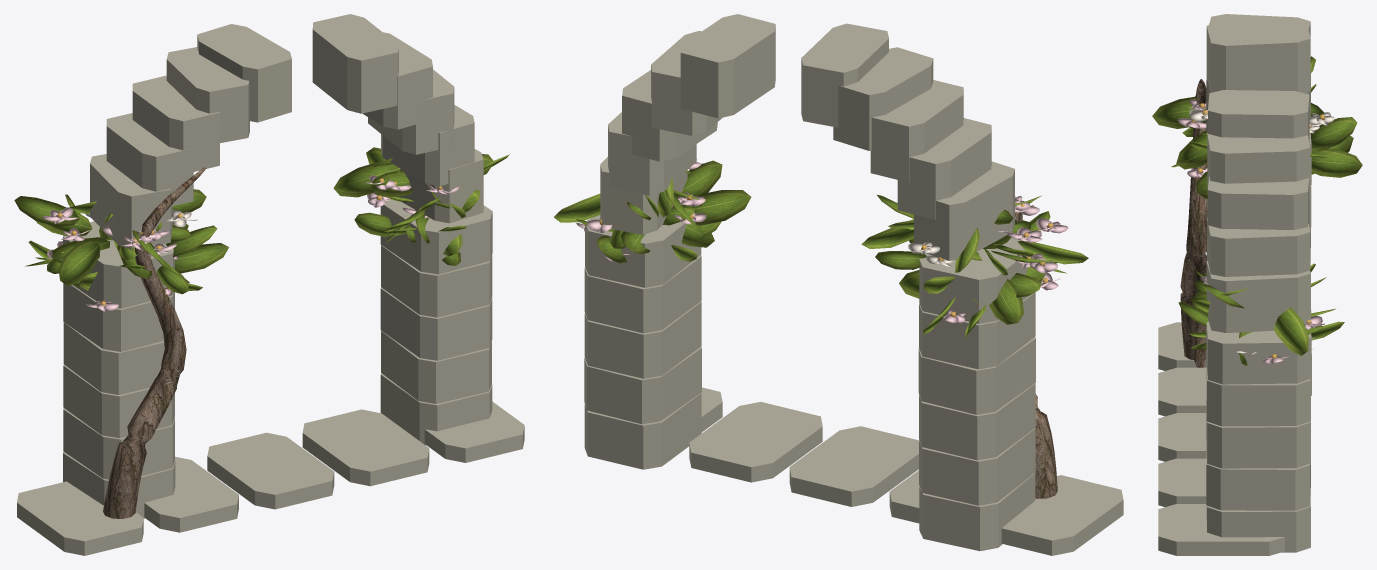
The model's file is Spring_RuinedGardenArch.fbx.
The picture shows the model from 3 angles, left to right: view 1: azimuth 30°, elevation 25°; view 2: azimuth 150°, elevation 25°; view 3: azimuth 270°, elevation 25°; orthographic projection. The views are drawn at different scales.
Visible parts, largest first — view 1: Spring_RuinedGardenArch; view 2: Spring_RuinedGardenArch; view 3: Spring_RuinedGardenArch.
Part boxes in pixels (left/top/right/bottom): Spring_RuinedGardenArch: left=14, top=14, right=524, bottom=555; Spring_RuinedGardenArch: left=554, top=14, right=1123, bottom=555; Spring_RuinedGardenArch: left=1152, top=14, right=1362, bottom=555.
Size of the model in its own units: 7.47 by 6.38 by 2.94.
Materials: 8 (4 with a texture image).
